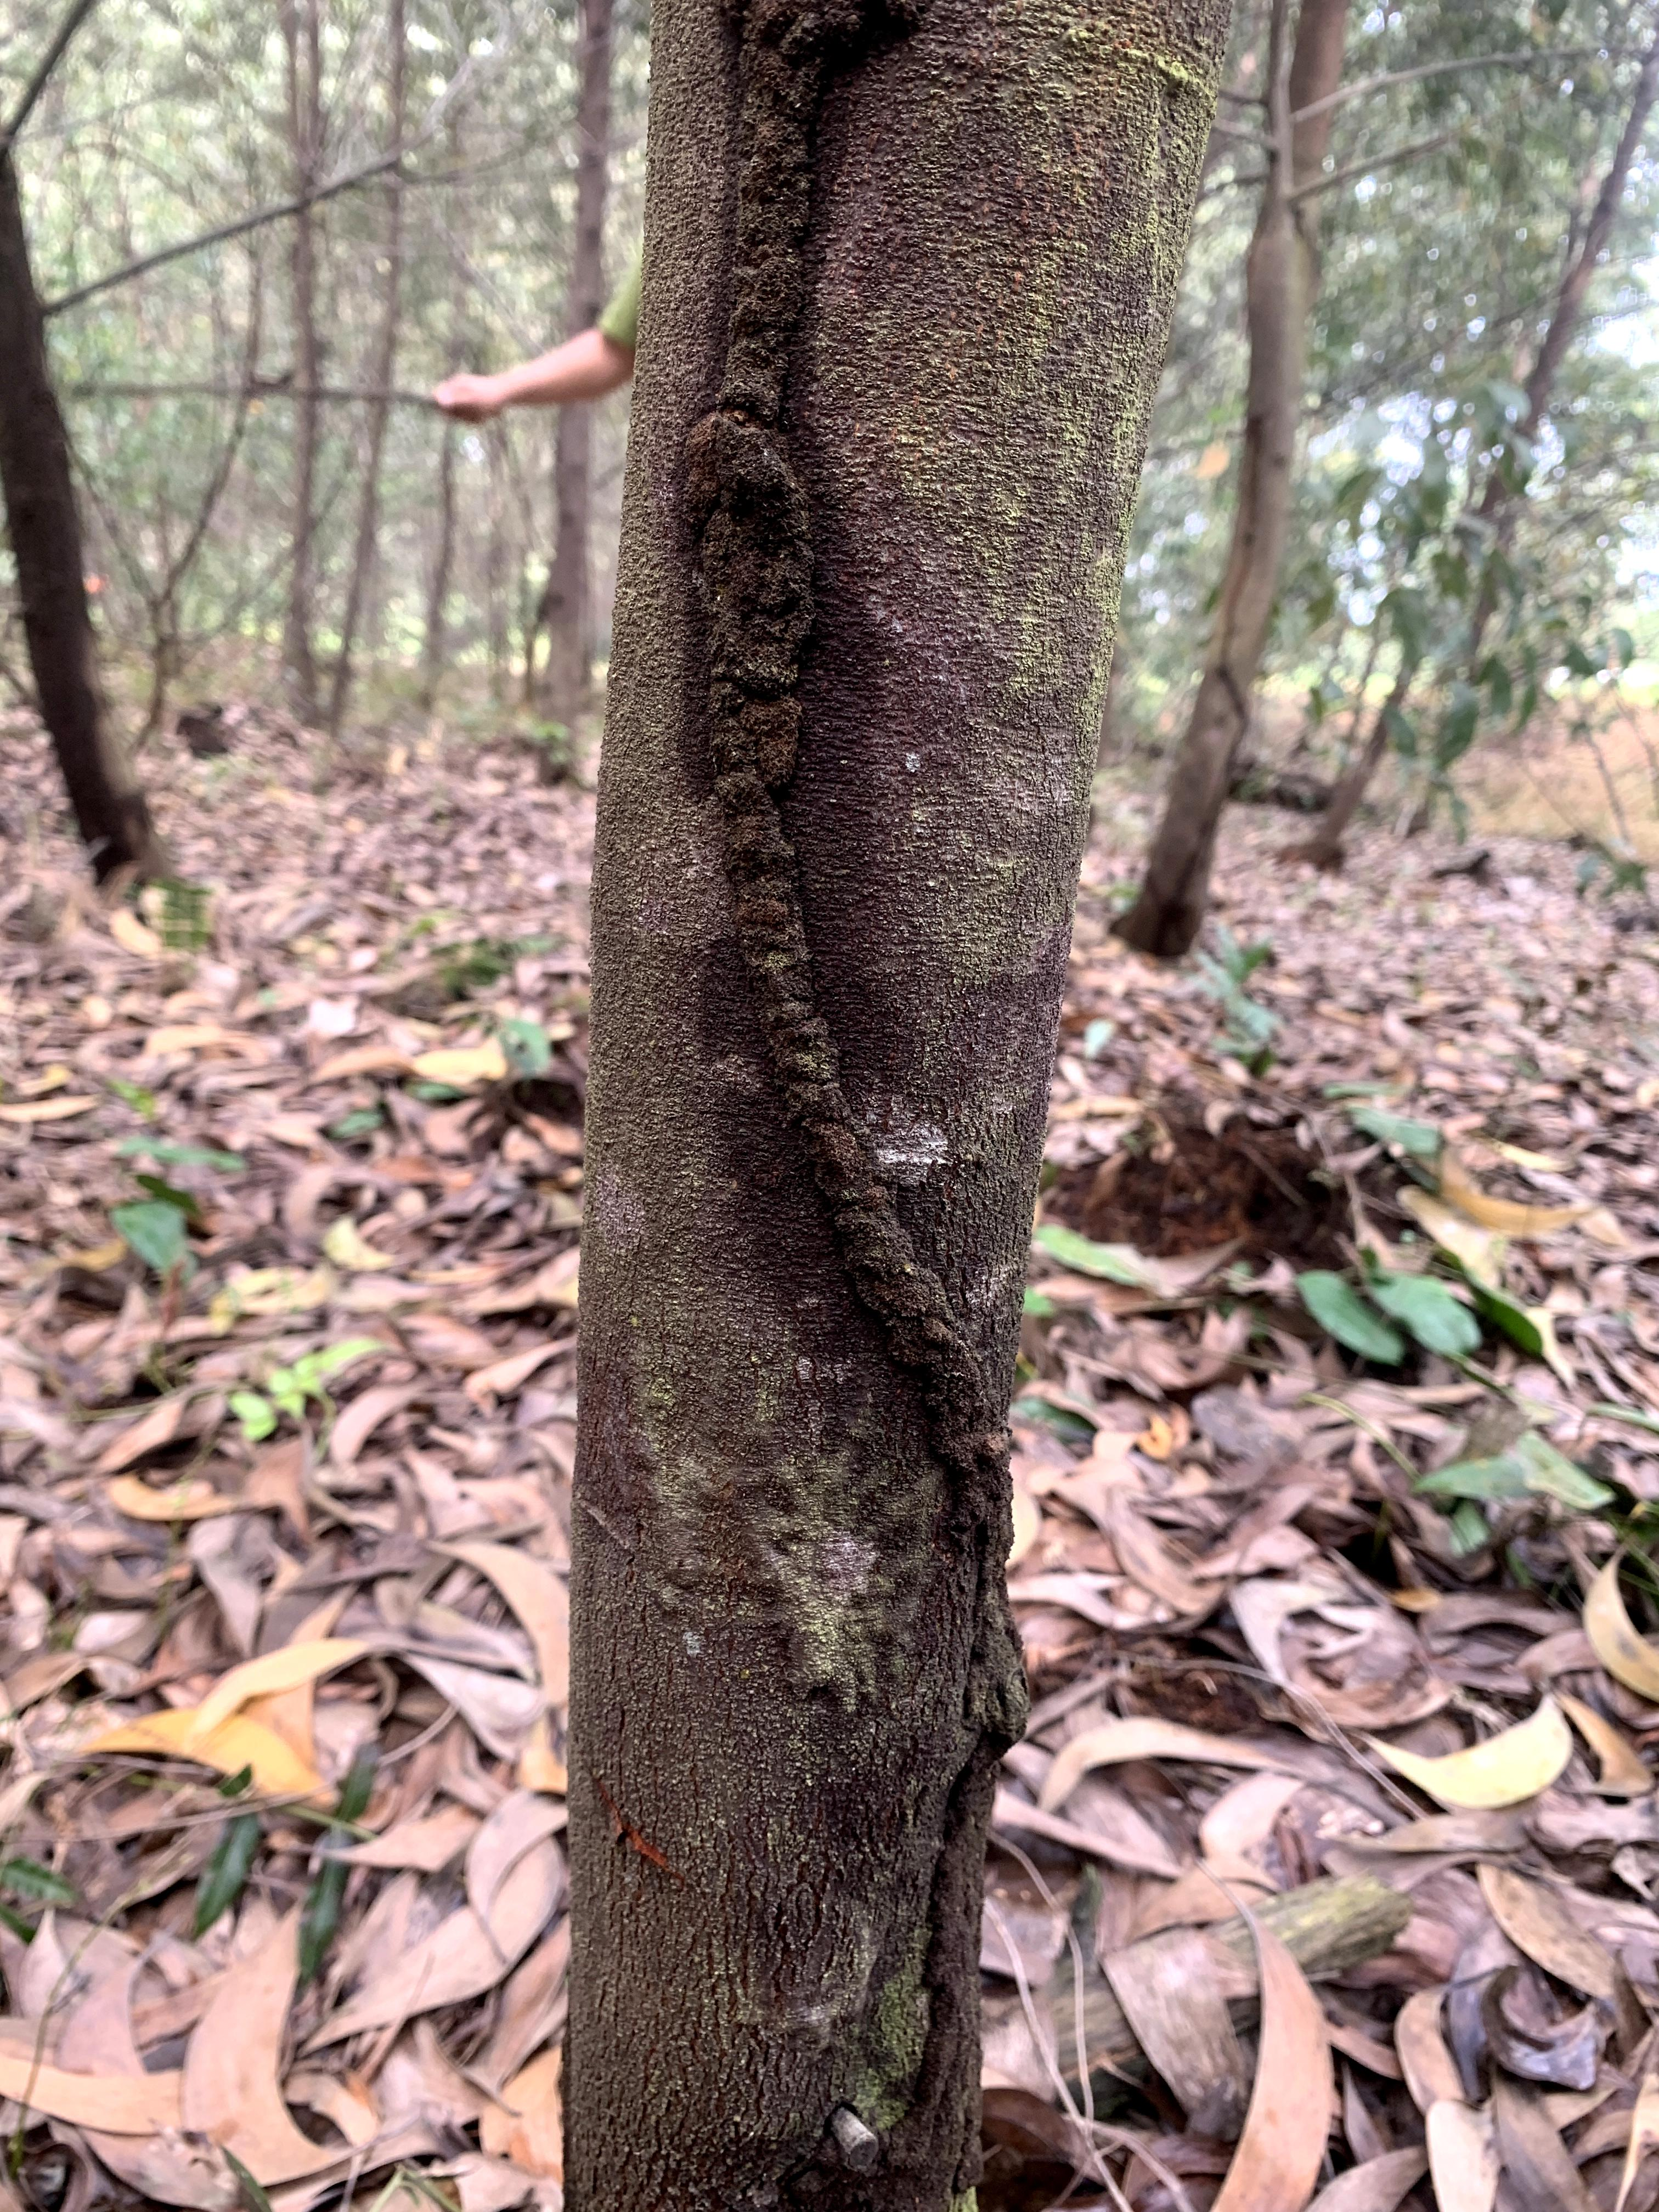Termite - Nest: (648, 2, 995, 1554)
